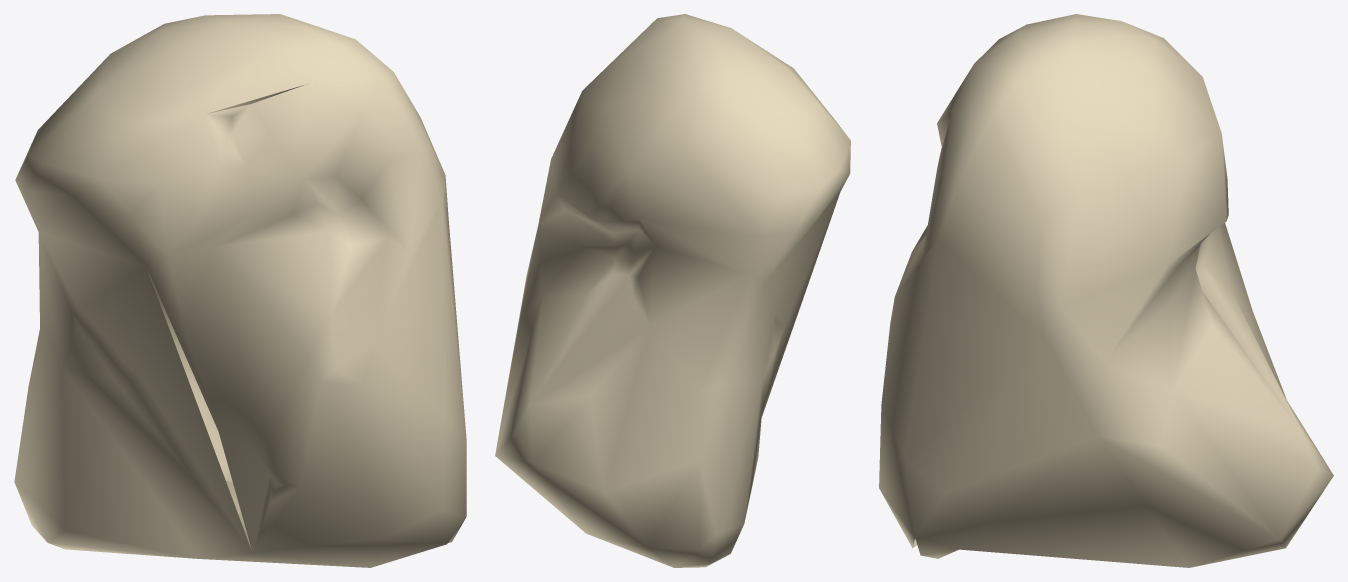
File: esqueleto-capitate-bone-l.glb
The picture shows the model from 3 angles, left to right: view 1: azimuth 30°, elevation 25°; view 2: azimuth 150°, elevation 25°; view 3: azimuth 270°, elevation 25°; orthographic projection. The views are drawn at different scales.
Visible parts, largest first — view 1: Capitate bone.l; view 2: Capitate bone.l; view 3: Capitate bone.l.
Part boxes in pixels (left/top/right/bottom): Capitate bone.l: left=14, top=14, right=466, bottom=567; Capitate bone.l: left=495, top=14, right=850, bottom=567; Capitate bone.l: left=879, top=14, right=1333, bottom=567.
Bounding box in the file's own units: 0.0166 × 0.0234 × 0.018.
